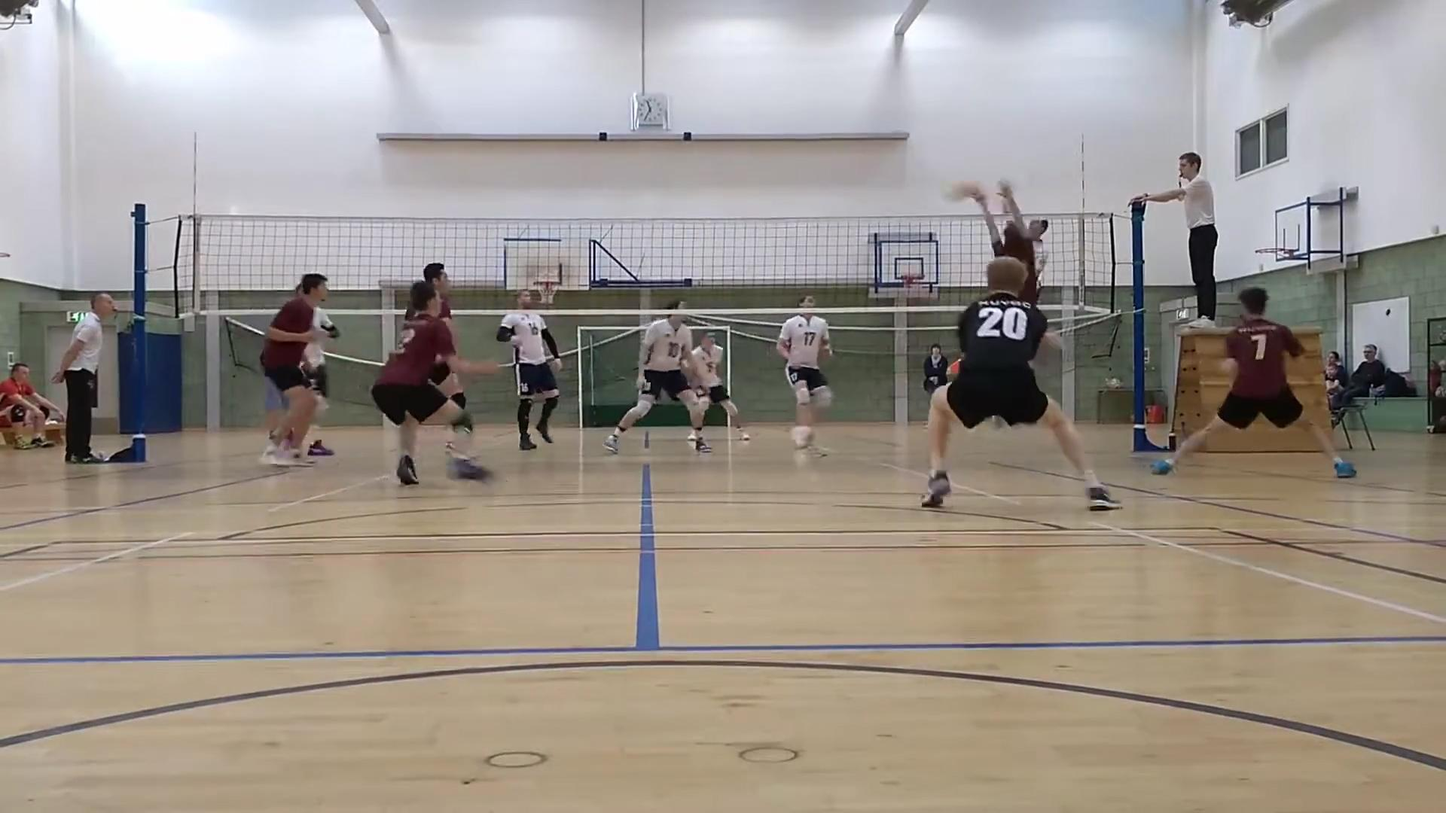Block: (969, 175, 1043, 288)
Player: (923, 257, 1119, 510), (1152, 288, 1355, 477), (371, 282, 499, 485), (604, 303, 711, 452), (261, 273, 326, 464), (496, 290, 560, 450), (776, 296, 831, 449), (692, 334, 749, 440), (304, 306, 339, 427), (1017, 205, 1054, 290), (423, 263, 452, 327)
ball: (945, 177, 969, 205)
